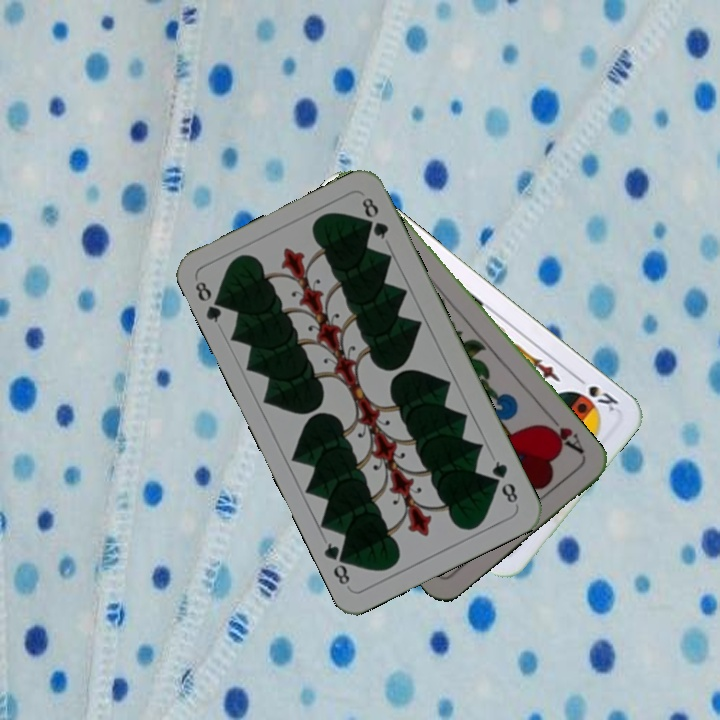G8: (190, 277, 229, 326), (487, 457, 521, 506)
HA: (538, 409, 587, 457)
SK: (571, 371, 621, 414)
